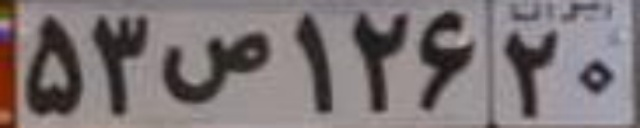0: (571, 58, 619, 93)
1: (290, 13, 334, 113)
2: (353, 12, 408, 113), (504, 27, 561, 117)
3: (92, 13, 154, 115)
5: (19, 14, 86, 115)
6: (416, 12, 476, 110)
saat: (160, 29, 274, 104)
